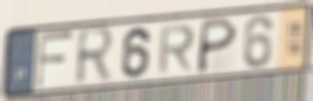6: (241, 13, 275, 70), (121, 25, 153, 80)
F: (33, 30, 77, 92)
P: (193, 15, 240, 76)
R: (73, 24, 118, 89), (156, 23, 197, 76)
